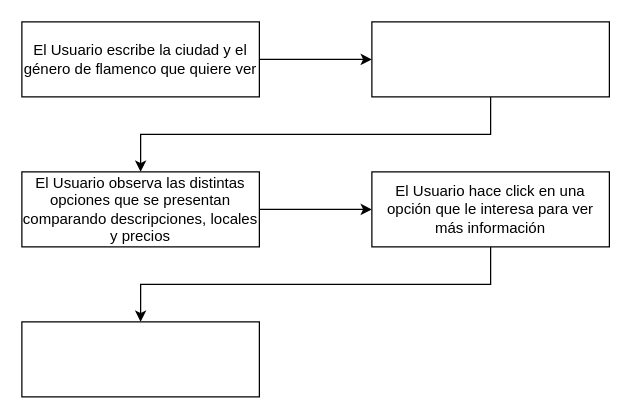
Image size: 631x419. Some labels were removed from this diagram. Each missing label, with the box of its shape:
El Usuario de like a la opción, lee los comentarios y compra una entrada: (21, 321, 259, 397)
El Usuario escribe la zona donde quiere visitar el tablao flamenco: (371, 21, 609, 97)
